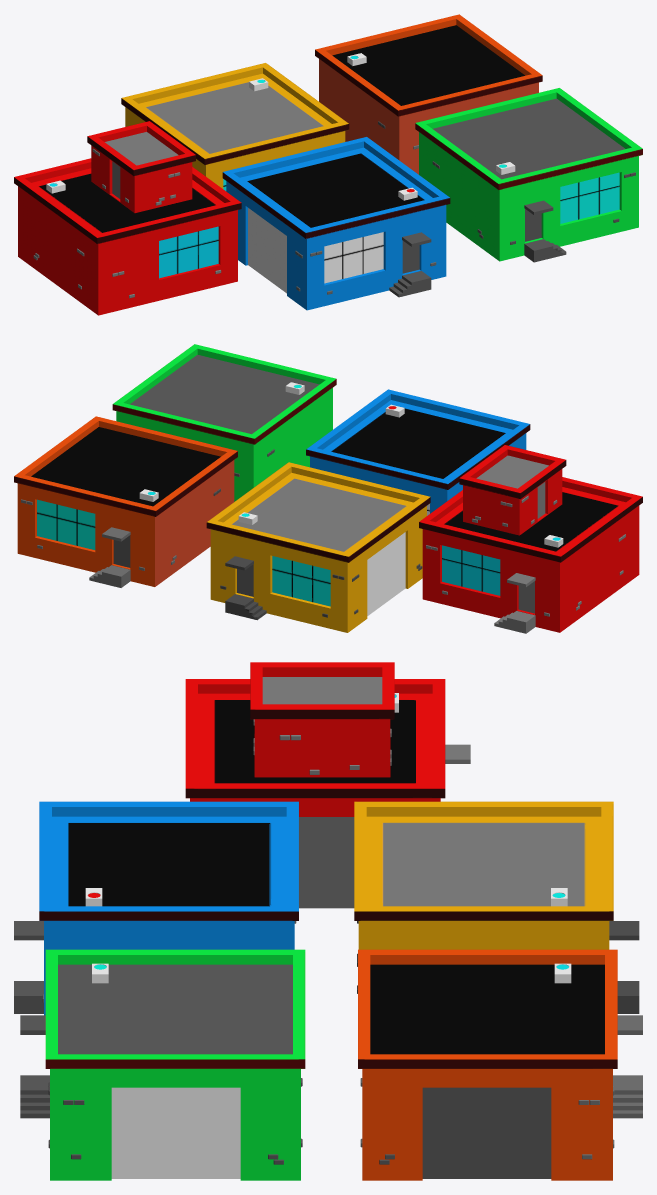
Rendered from Low_Poly_Building_Final.fbx.
3 views of the same model, one above another, from view 1: azimuth 30°, elevation 25°; view 2: azimuth 150°, elevation 25°; view 3: azimuth 270°, elevation 25° (orthographic). The views are drawn at different scales.
Parts seen in each view (by area): view 1: Building_Red, Building_Blue, Building_Green, Building_Orange, Building_Yellow; view 2: Building_Red, Building_Yellow, Building_Orange, Building_Green, Building_Blue; view 3: Building_Green, Building_Orange, Building_Red, Building_Blue, Building_Yellow.
Part boxes in pixels (bbox=[...]): Building_Red: bbox=[14, 121, 241, 315]; Building_Blue: bbox=[222, 137, 450, 310]; Building_Green: bbox=[415, 88, 642, 262]; Building_Orange: bbox=[315, 14, 542, 174]; Building_Yellow: bbox=[121, 63, 349, 190]; Building_Red: bbox=[419, 445, 642, 633]; Building_Yellow: bbox=[206, 462, 430, 632]; Building_Orange: bbox=[14, 416, 237, 587]; Building_Green: bbox=[112, 344, 336, 501]; Building_Blue: bbox=[306, 389, 530, 515]; Building_Green: bbox=[20, 949, 305, 1180]; Building_Orange: bbox=[358, 949, 642, 1180]; Building_Red: bbox=[185, 662, 470, 908]; Building_Blue: bbox=[14, 801, 298, 1015]; Building_Yellow: bbox=[354, 801, 639, 1013].
Bounding box in the file's own units: 29.25 × 6.58 × 20.44.
